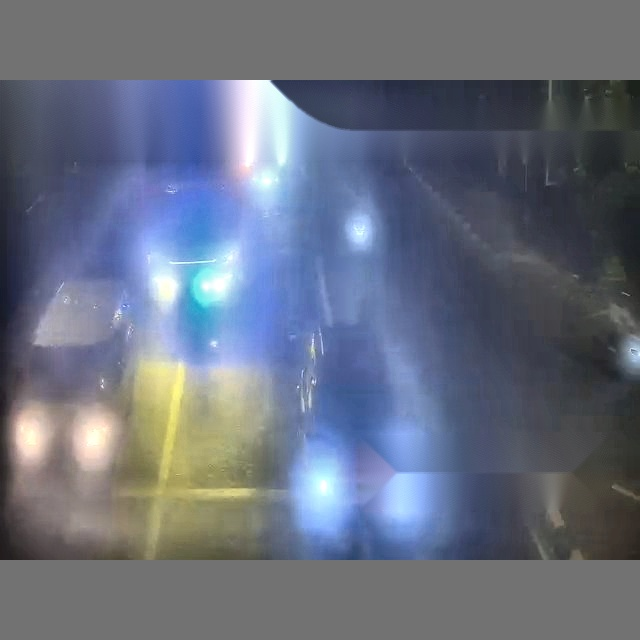Bis: (38, 92, 568, 564)
